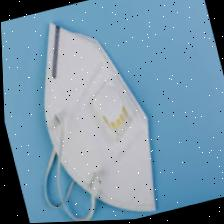mask: (9, 0, 180, 224)
